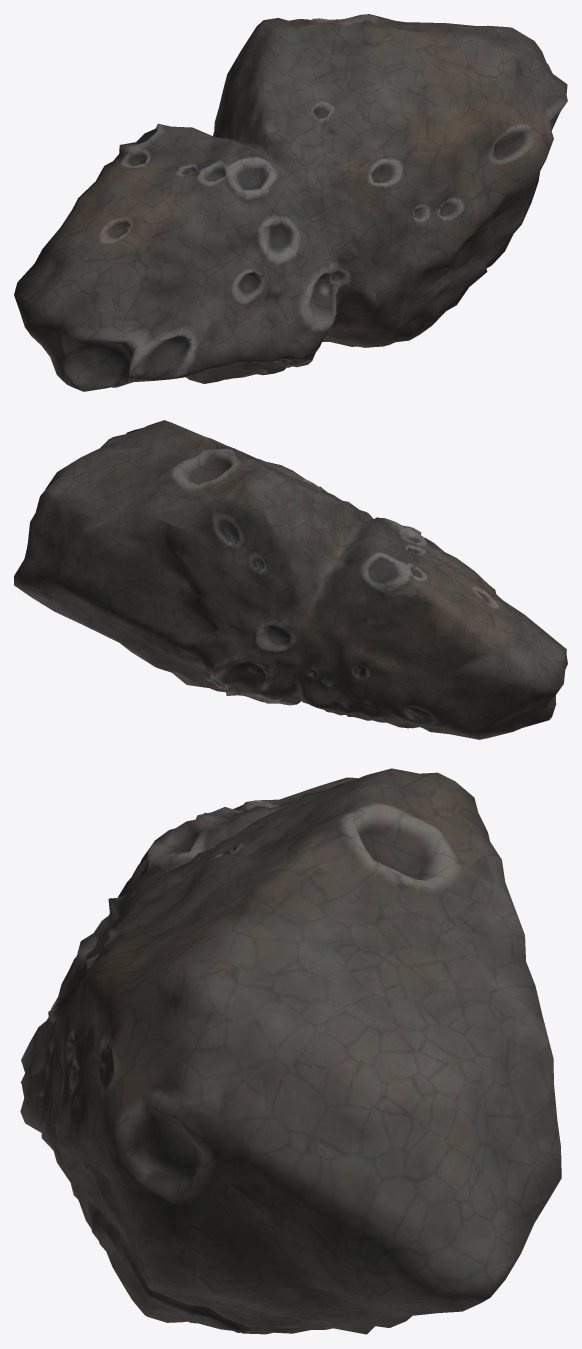
File: asteroid_d.glb
The picture shows the model from 3 angles, top to bottom: view 1: azimuth 30°, elevation 25°; view 2: azimuth 150°, elevation 25°; view 3: azimuth 270°, elevation 25°; orthographic projection. The views are drawn at different scales.
Visible parts, largest first — view 1: AST_D_low; view 2: AST_D_low; view 3: AST_D_low.
Part boxes in pixels (x1,y1,x2,y2): AST_D_low: (14, 14, 567, 391); AST_D_low: (14, 420, 567, 739); AST_D_low: (20, 768, 561, 1334).
Bounding box in the file's own units: 1.92 × 0.9825 × 0.9047.
1 material, 1 textured.
